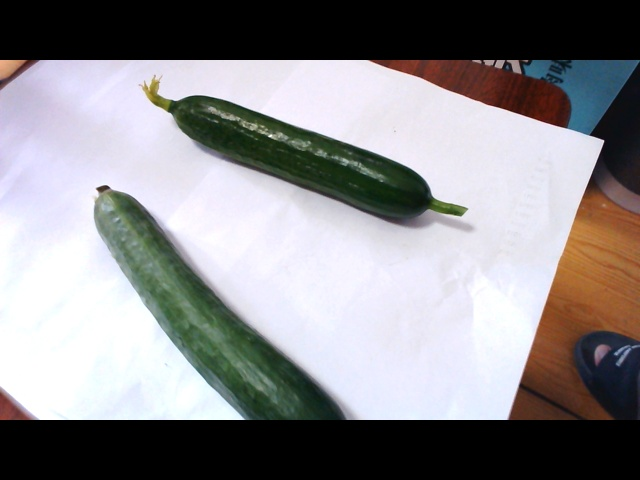cucumber: (72, 176, 349, 419), (151, 82, 492, 212)
